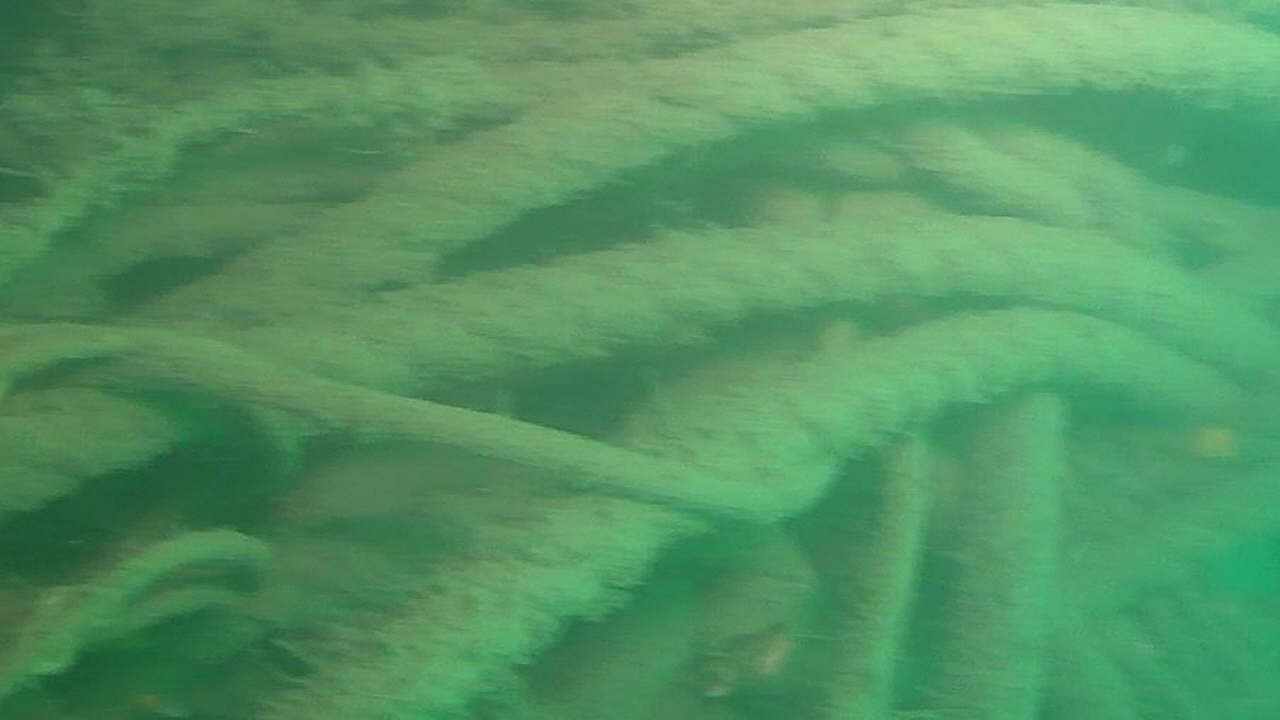bundle of ropes: (0, 0, 1280, 512)
